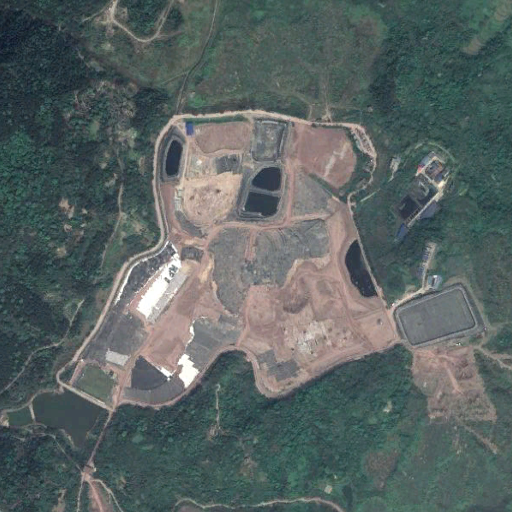lf: (89, 116, 390, 403)
